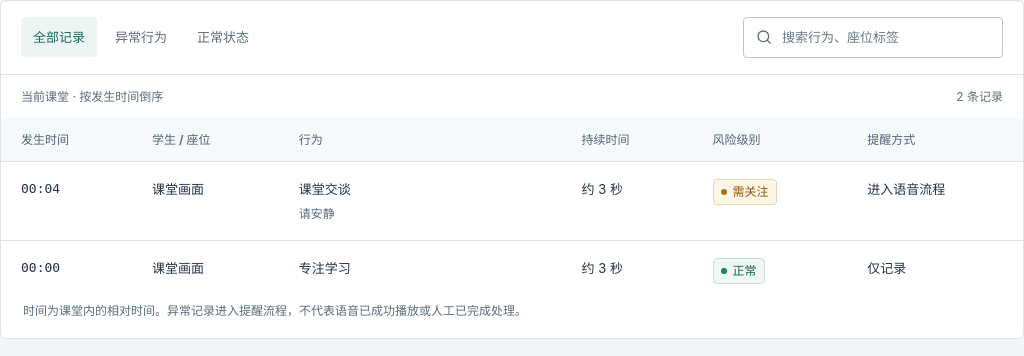
it: 事件中心 › 只在异常筛选中展示需关注事件
Click the button "异常行为": (141, 37) [103,17,179,57]
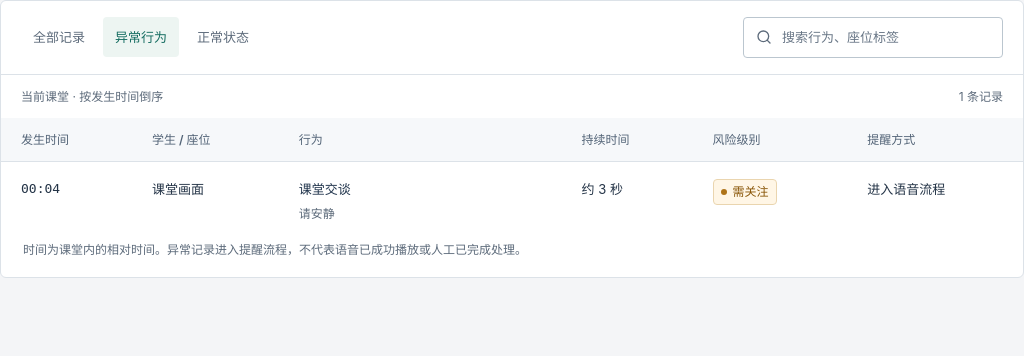
Expected: the text "课堂交谈" is shown, [299,181,351,197]
Expected: the text "专注学习" is gone
